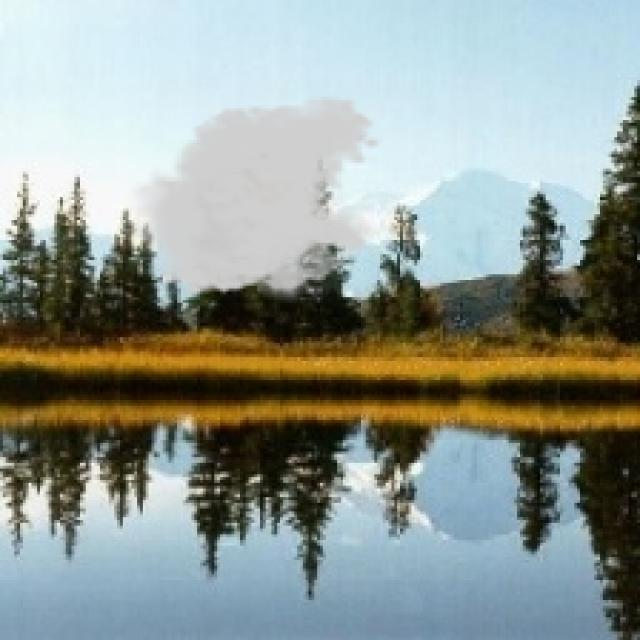smoke: (123, 94, 383, 309)
